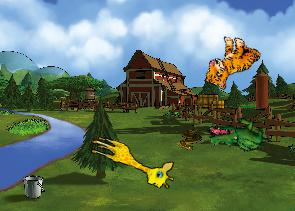crocodile: (205, 110, 272, 161)
giraffe: (84, 133, 179, 192)
tiger: (201, 30, 263, 97)
